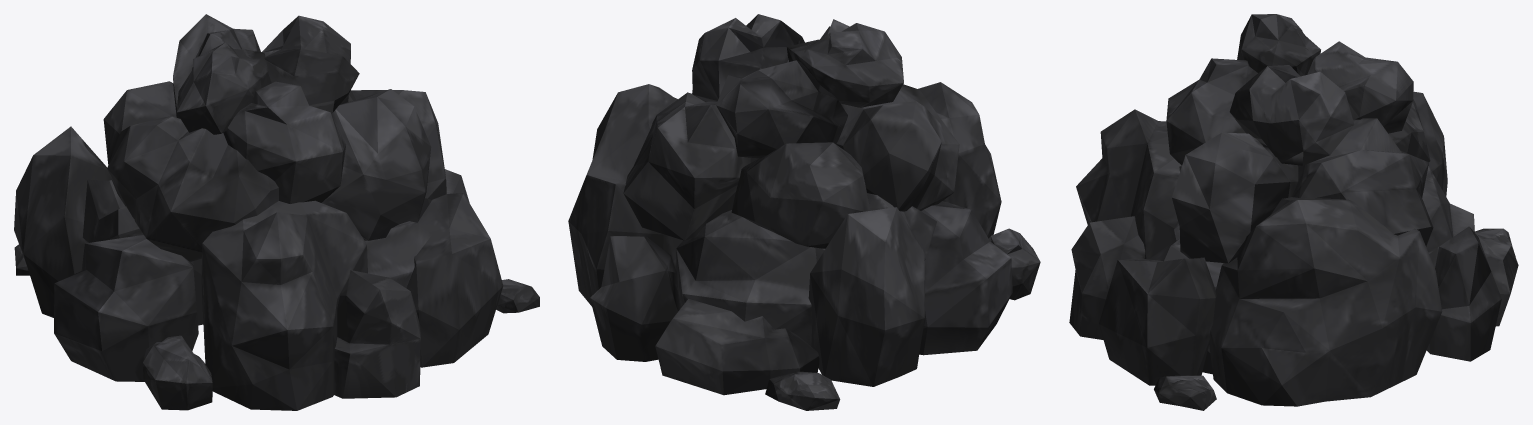
The model's file is CoalBed.FBX.
The picture shows the model from 3 angles, left to right: view 1: azimuth 30°, elevation 25°; view 2: azimuth 150°, elevation 25°; view 3: azimuth 270°, elevation 25°; orthographic projection. The views are drawn at different scales.
Visible parts, largest first — view 1: Object062; view 2: Object062; view 3: Object062.
Boxes of the visible parts, <box> form: Object062: <box>14,14,539,410</box>; Object062: <box>568,14,1040,410</box>; Object062: <box>1069,14,1518,410</box>.
Bounding box in the file's own units: 1.64 × 1.07 × 1.59.
Materials: 1 (1 with a texture image).
